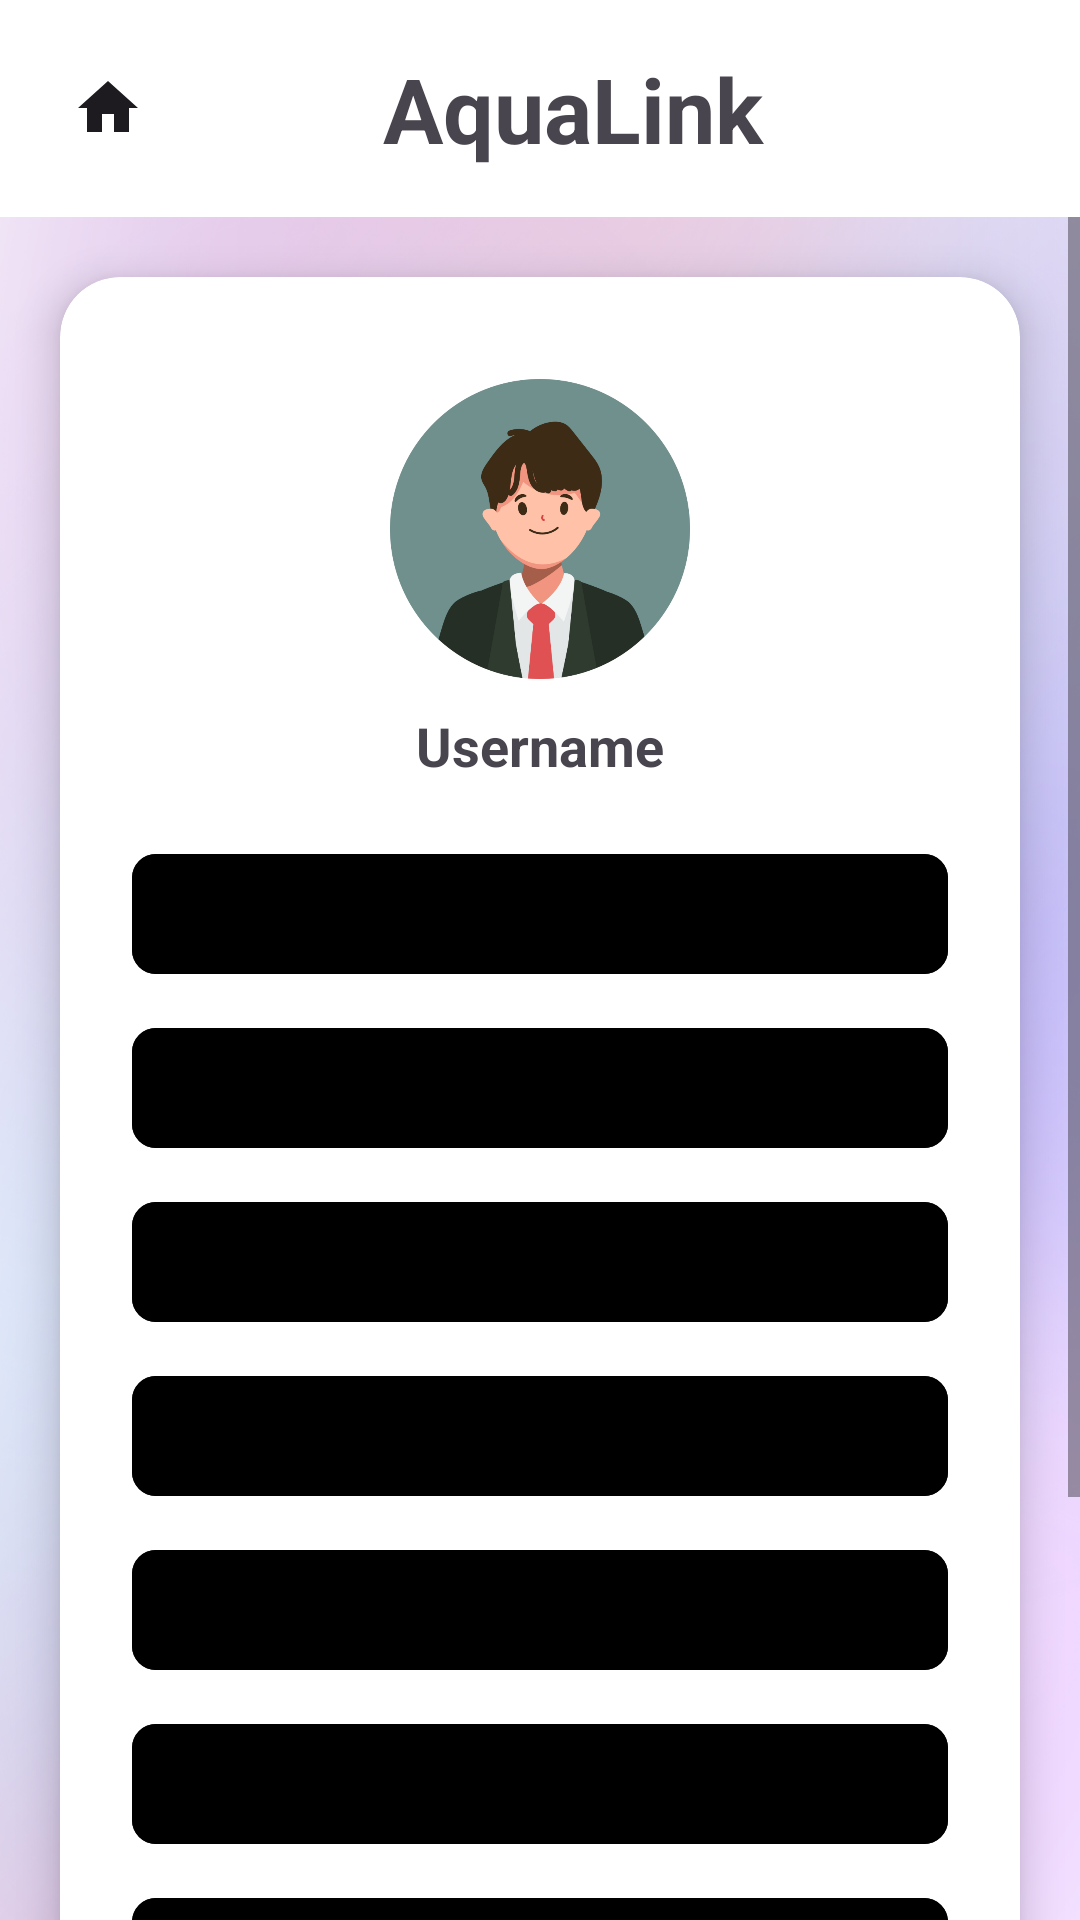

Screen size 1080×1920. Icon name, then its box in pixels as {"left": x1, "top": y1, "right": x2, "bottom": y2}:
home: {"left": 78, "top": 81, "right": 138, "bottom": 132}
profile picture: {"left": 390, "top": 379, "right": 690, "bottom": 679}
